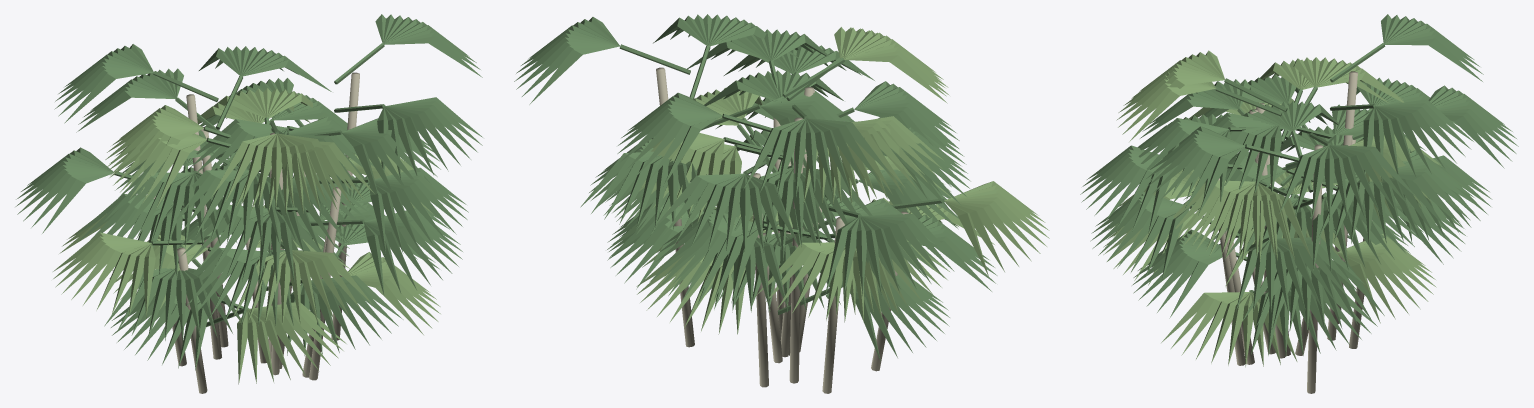
The model's file is grove-specimen-23.glb.
3 renders of one model, left to right at view 1: azimuth 30°, elevation 25°; view 2: azimuth 150°, elevation 25°; view 3: azimuth 270°, elevation 25°, orthographic. The views are drawn at different scales.
Parts seen in each view (by area): view 1: grove-specimen-23; view 2: grove-specimen-23; view 3: grove-specimen-23.
Part boxes in pixels (<box>): grove-specimen-23: <box>15,14,482,393</box>; grove-specimen-23: <box>514,14,1049,393</box>; grove-specimen-23: <box>1080,14,1518,393</box>.
Bounding box in the file's own units: 2.63 × 1.62 × 2.27.
